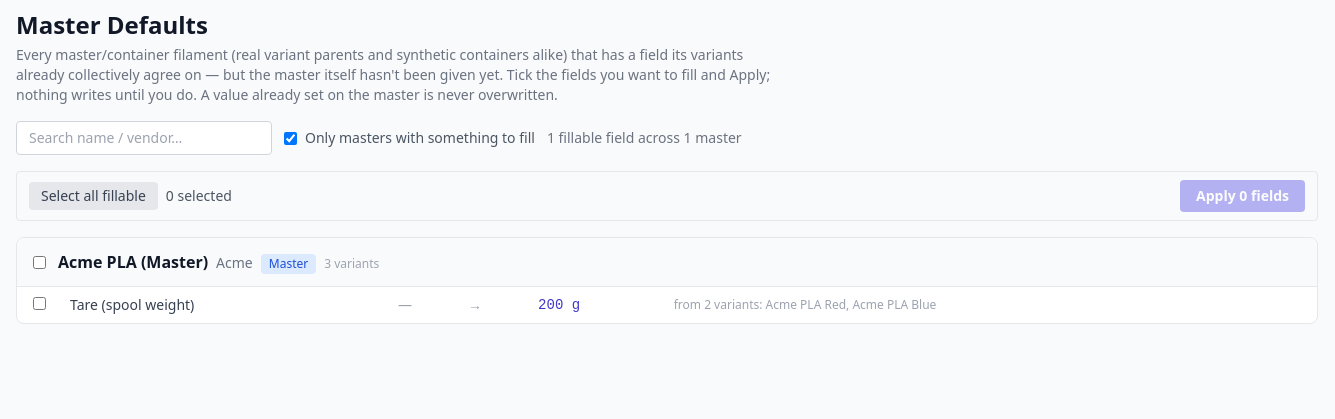
Test: MasterDefaults page › shows the failed reason after a partial apply failure
Expected: the text "Tare (spool weight)" is shown, [62,287,390,323]
Click the checkbox named "Fill Tare (spool weight)": (40, 304) [33,297,46,310]
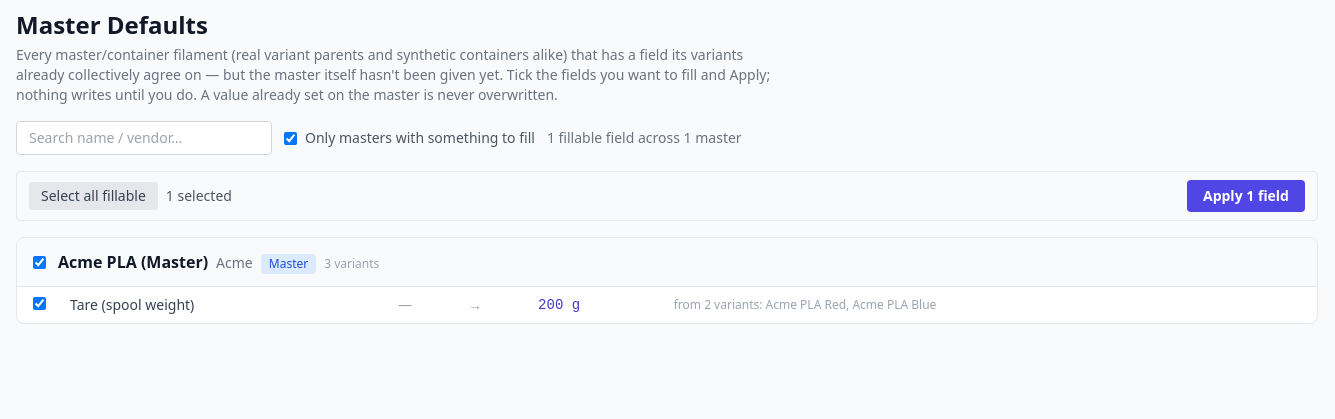
Click the button "Apply 1 field": (1246, 196) [1187,180,1305,212]
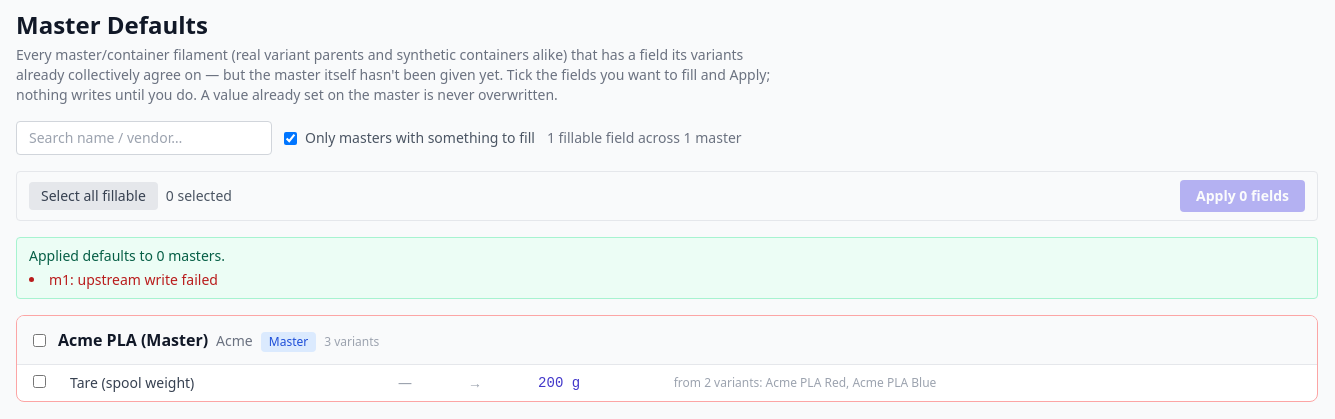
Expected: the list item "m1: upstream write failed" is shown, [49,270,218,289]
